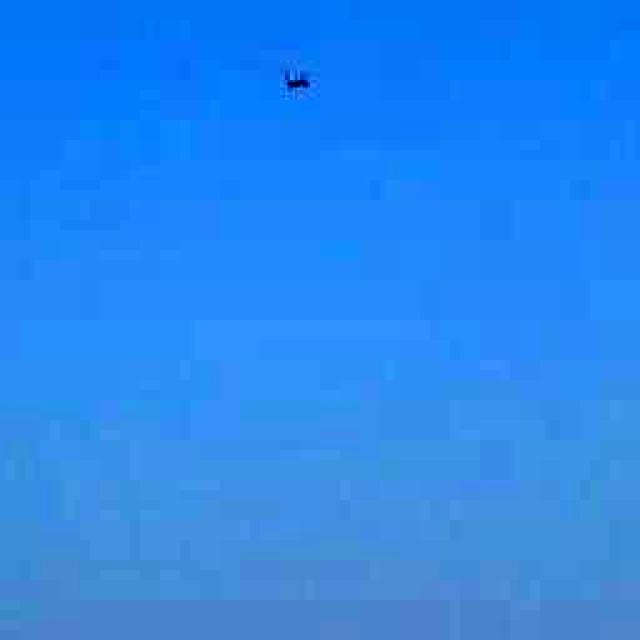bird: (232, 34, 355, 121)
